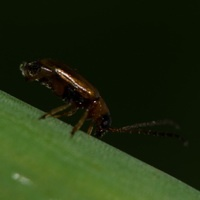insect: (20, 58, 110, 135)
